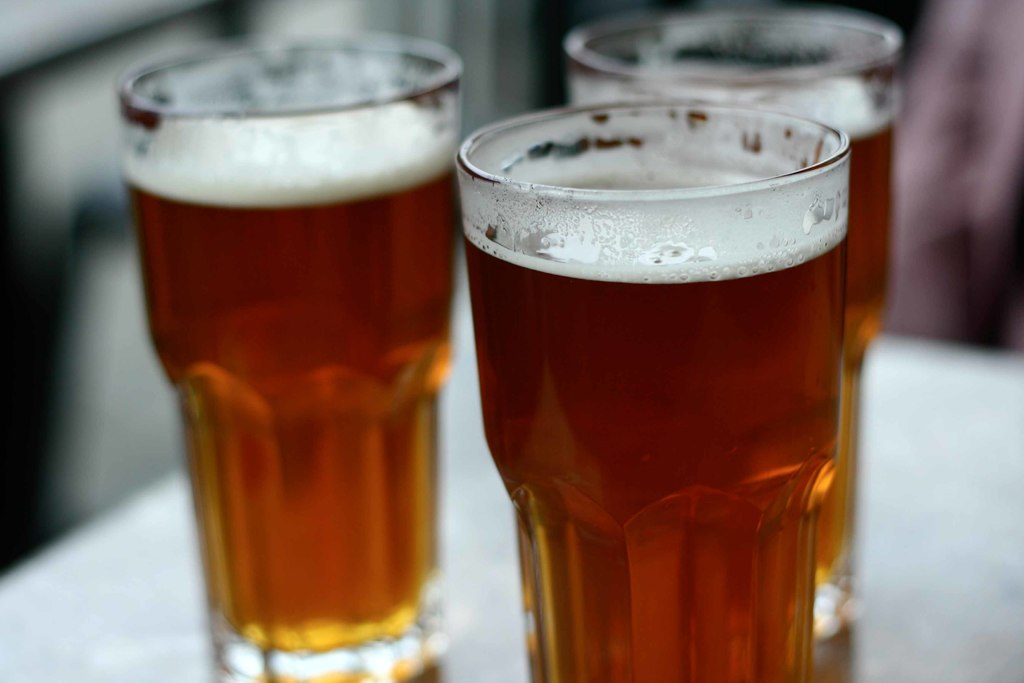Beer: (454, 105, 848, 683), (116, 30, 464, 683), (564, 9, 906, 639)
